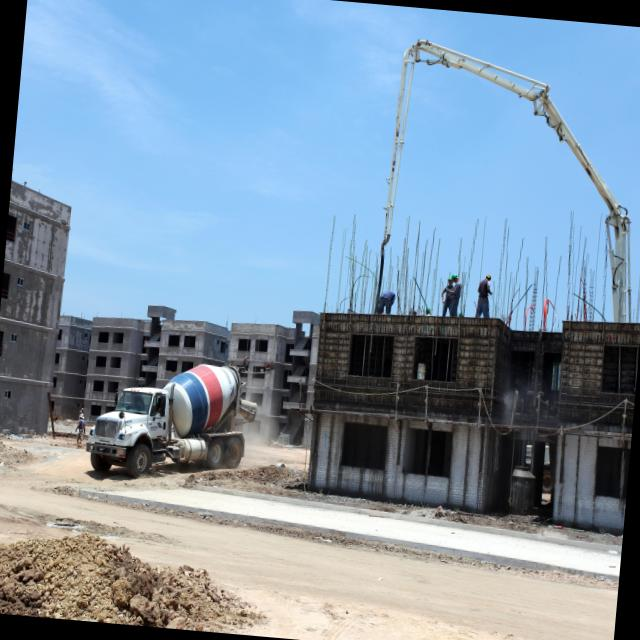cement: (79, 484, 621, 581)
white-sand: (0, 438, 618, 640)
